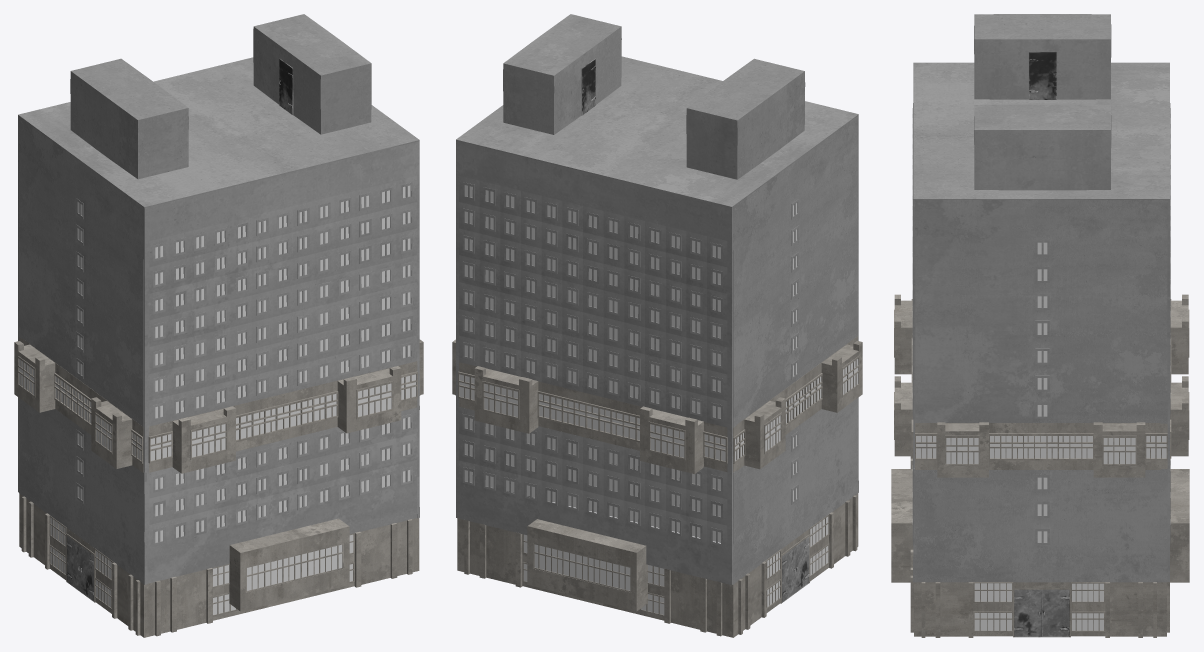
The model's file is Building1Mesh.fbx.
The picture shows the model from 3 angles, left to right: view 1: azimuth 30°, elevation 25°; view 2: azimuth 150°, elevation 25°; view 3: azimuth 270°, elevation 25°; orthographic projection.
Visible parts, largest first — view 1: BuildingTop, L_BuildingTop, Roof, BuildingBottom, FrontWindows, L_SideBuilding, L_SideWindows, R_Door (×2), L_Door; view 2: BuildingTop, Roof, L_BuildingTop, BuildingBottom, BackWindows, L_SideBuilding, L_SideWindows, R_Door (×2), L_Door; view 3: R_BuildingTop, Roof, R_SideBuilding, BuildingBottom (×2), R_SideWindows, BuildingTop (×2), L_Door (×2), R_Door.
Part boxes in pixels (x1,y1,x2,y2): BuildingTop: [143, 141, 419, 583]; L_BuildingTop: [19, 117, 147, 584]; Roof: [18, 14, 419, 208]; BuildingBottom: [144, 361, 418, 637]; FrontWindows: [150, 185, 416, 614]; L_SideBuilding: [14, 337, 144, 637]; L_SideWindows: [19, 202, 141, 607]; R_Door (×2): [66, 58, 293, 591]; L_Door: [80, 546, 93, 601]; BuildingTop: [456, 140, 733, 585]; Roof: [456, 14, 858, 207]; L_BuildingTop: [733, 116, 858, 584]; BuildingBottom: [457, 362, 732, 637]; BackWindows: [459, 185, 725, 614]; L_SideBuilding: [733, 336, 862, 637]; L_SideWindows: [735, 203, 858, 606]; R_Door (×2): [581, 58, 795, 602]; L_Door: [795, 536, 809, 592]; R_BuildingTop: [913, 199, 1167, 582]; Roof: [913, 14, 1169, 199]; R_SideBuilding: [914, 422, 1167, 637]; BuildingBottom (×2): [891, 294, 1189, 632]; R_SideWindows: [916, 242, 1166, 630]; BuildingTop (×2): [912, 103, 1170, 581]; L_Door (×2): [1014, 52, 1056, 637]; R_Door: [1042, 589, 1069, 637].
Size of the model in its own units: 14.44 by 21.96 by 11.91.
16 materials, 15 textured.
